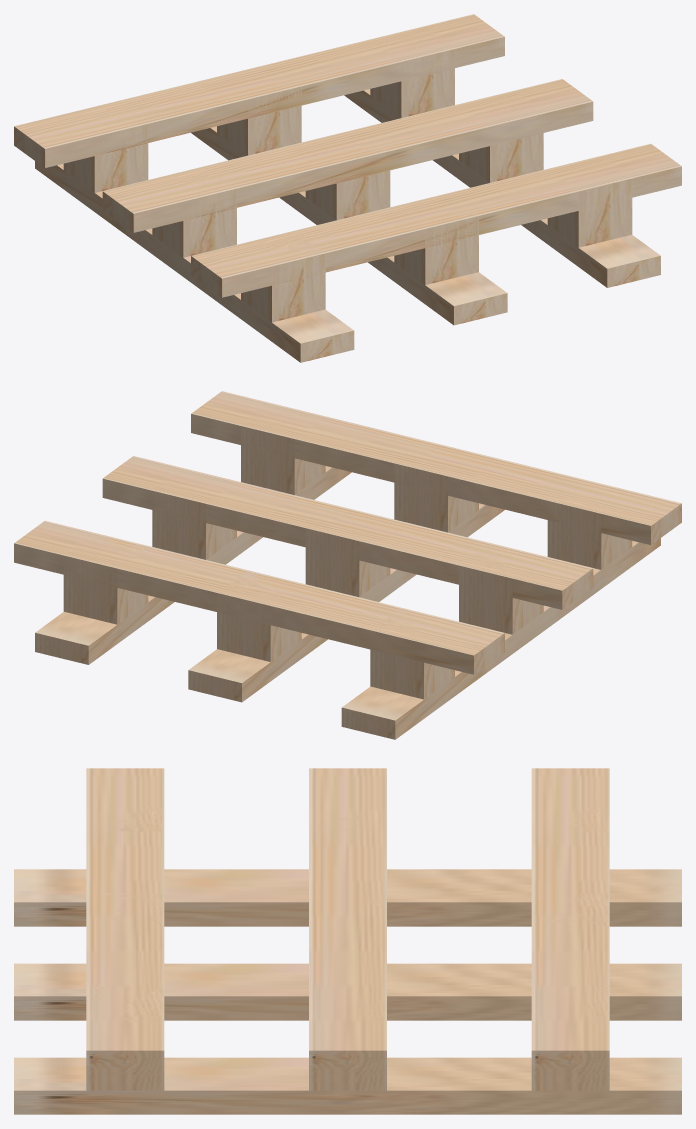
File: Pallet.fbx
3 renders of one model, top to bottom at view 1: azimuth 30°, elevation 25°; view 2: azimuth 150°, elevation 25°; view 3: azimuth 270°, elevation 25°, orthographic. The views are drawn at different scales.
Visible parts, largest first — view 1: Taco de soporte.006; view 2: Taco de soporte.006; view 3: Taco de soporte.006.
Boxes of the visible parts, box(x1,y1,x2,y2) form: Taco de soporte.006: box(14, 14, 681, 362); Taco de soporte.006: box(14, 391, 681, 739); Taco de soporte.006: box(14, 768, 681, 1114).
Size of the model in its own units: 300 by 47 by 300.
Materials: 1 (1 with a texture image).
